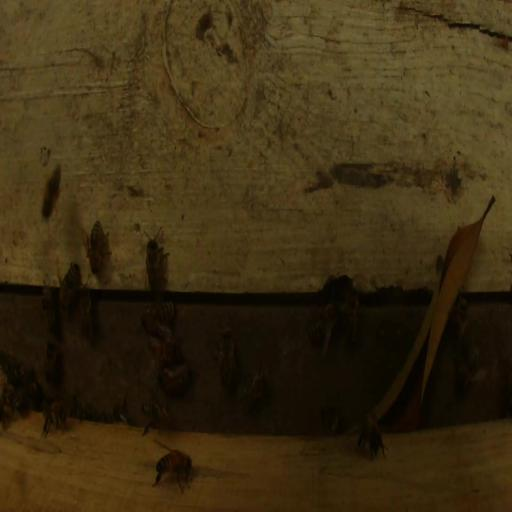bee: (154, 448, 193, 494), (307, 302, 338, 358), (144, 226, 168, 291), (39, 163, 63, 222), (453, 345, 480, 393), (357, 420, 389, 460), (141, 301, 174, 336), (218, 329, 235, 391), (59, 262, 80, 310), (140, 402, 170, 433), (158, 364, 190, 393), (41, 400, 66, 437), (149, 335, 180, 363), (242, 374, 265, 411), (345, 287, 359, 347), (78, 290, 94, 340), (87, 221, 102, 272), (4, 386, 27, 419), (45, 339, 61, 384), (41, 286, 56, 332), (455, 295, 468, 342), (322, 405, 341, 434), (27, 380, 43, 409), (69, 394, 83, 419)
